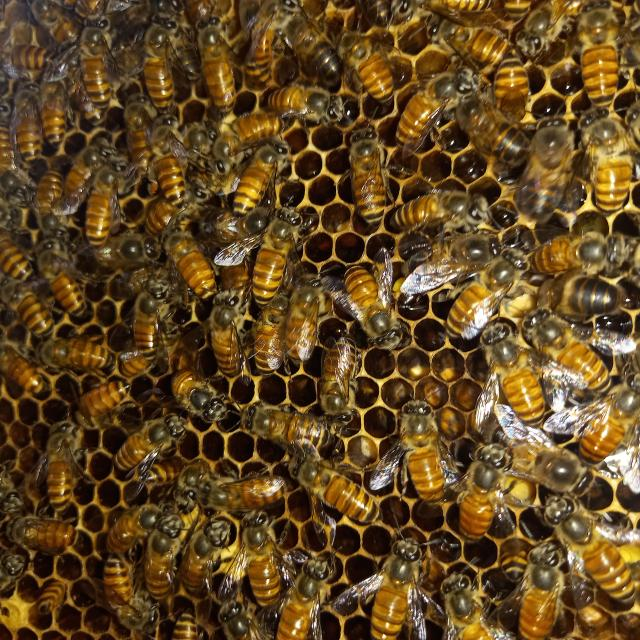honeybee: (552, 491, 640, 620), (486, 396, 595, 488), (388, 377, 457, 509), (472, 308, 543, 430), (242, 388, 334, 464), (526, 292, 598, 386), (363, 531, 424, 640), (179, 452, 289, 509), (90, 547, 157, 640), (340, 244, 397, 352), (533, 101, 585, 211), (576, 0, 626, 114), (236, 504, 294, 602), (38, 232, 96, 330), (292, 445, 370, 517), (585, 362, 640, 464), (245, 202, 301, 302), (279, 0, 347, 81), (156, 213, 216, 304), (451, 246, 527, 316), (197, 6, 247, 112), (460, 443, 506, 556), (405, 57, 458, 155), (114, 412, 196, 475), (520, 534, 568, 640), (163, 367, 246, 428), (236, 0, 296, 82), (286, 544, 337, 640), (282, 275, 336, 365), (138, 8, 188, 105), (315, 329, 362, 432), (32, 413, 86, 500), (435, 558, 491, 640), (342, 27, 398, 108), (592, 108, 640, 198), (343, 121, 386, 219), (126, 448, 225, 490), (232, 142, 290, 212), (435, 19, 506, 76), (147, 512, 189, 608), (179, 509, 224, 598), (416, 234, 510, 276), (76, 17, 118, 110), (143, 108, 190, 191), (528, 229, 614, 274), (460, 92, 521, 154), (0, 274, 52, 346), (0, 513, 87, 556), (82, 158, 125, 244), (389, 191, 494, 226), (62, 136, 110, 212), (511, 0, 581, 52), (541, 276, 630, 316), (40, 326, 113, 374), (212, 108, 289, 152), (0, 336, 39, 415), (126, 270, 173, 335), (205, 293, 242, 373), (11, 77, 48, 157), (492, 45, 530, 119), (266, 83, 338, 120), (256, 291, 288, 374), (25, 151, 63, 219), (392, 0, 490, 26), (120, 101, 159, 164), (215, 585, 258, 640), (0, 213, 33, 280), (2, 36, 54, 74), (77, 383, 128, 420), (41, 66, 70, 129), (110, 341, 158, 379), (173, 589, 208, 640), (31, 577, 70, 621)
